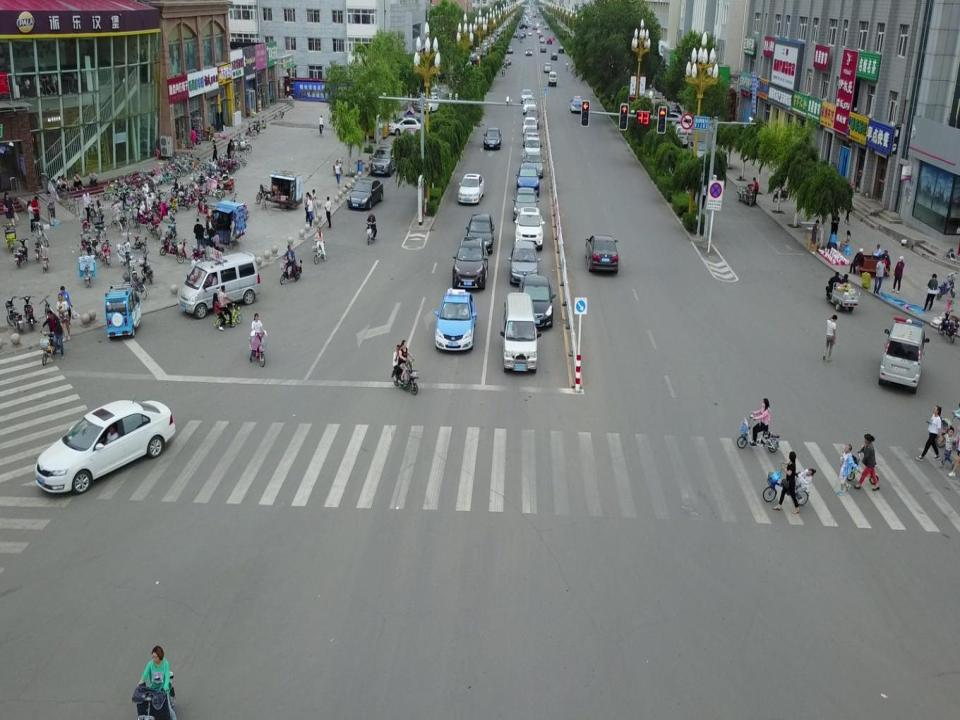car: (34, 400, 176, 493), (435, 288, 478, 351), (517, 275, 555, 328), (452, 236, 488, 291), (507, 241, 540, 285), (515, 206, 545, 250), (586, 234, 618, 274), (466, 214, 495, 254), (347, 178, 384, 209), (512, 187, 539, 221), (370, 145, 398, 175), (458, 173, 484, 204), (516, 163, 539, 196), (388, 116, 424, 134), (523, 151, 544, 178), (688, 140, 710, 164), (418, 98, 446, 114), (483, 128, 502, 151), (395, 116, 425, 130), (655, 111, 682, 126), (523, 126, 540, 147), (524, 105, 538, 127), (420, 88, 448, 99), (522, 117, 537, 136), (522, 97, 538, 114), (667, 104, 682, 120), (570, 96, 583, 113), (520, 88, 533, 103), (524, 47, 533, 56), (544, 63, 552, 72), (540, 44, 546, 53), (558, 45, 564, 53), (551, 53, 557, 60)
van: (176, 251, 262, 319), (878, 316, 930, 394), (500, 292, 542, 374), (523, 132, 541, 163), (674, 124, 688, 148), (548, 72, 557, 86)
